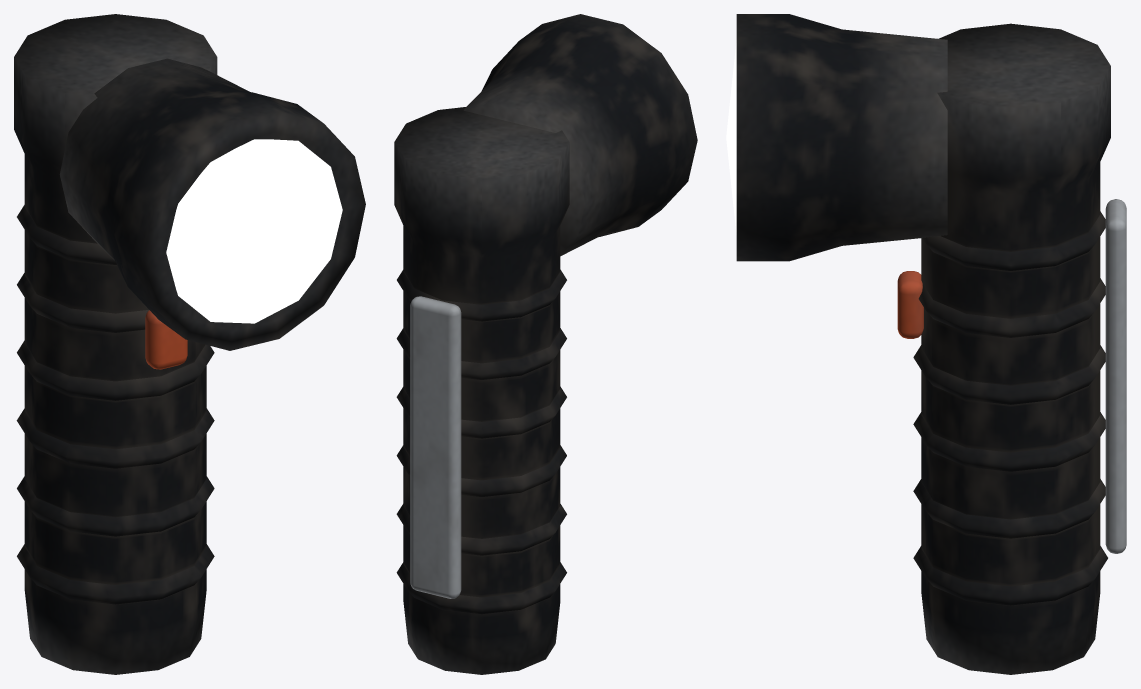
Rendered from pol_latarka.glb.
3 renders of one model, left to right at view 1: azimuth 30°, elevation 25°; view 2: azimuth 150°, elevation 25°; view 3: azimuth 270°, elevation 25°, orthographic. The views are drawn at different scales.
Visible parts, largest first — view 1: Latarka, Swiatlo; view 2: Latarka; view 3: Latarka, Swiatlo.
Boxes of the visible parts, left/top/right/bottom form: Latarka: left=14, top=14, right=365, bottom=674; Swiatlo: left=166, top=139, right=342, bottom=323; Latarka: left=394, top=14, right=697, bottom=674; Latarka: left=736, top=14, right=1126, bottom=674; Swiatlo: left=726, top=40, right=736, bottom=234.
Bounding box in the file's own units: 0.048 × 0.1284 × 0.076.
Materials: 2 (1 with a texture image).
